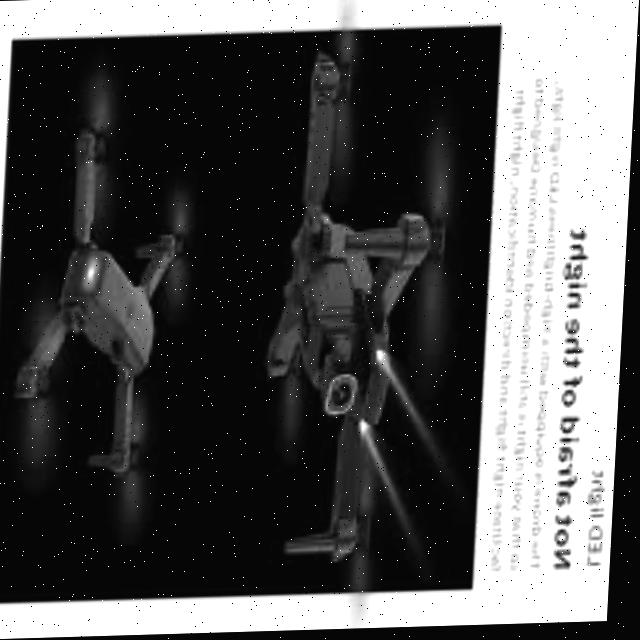drone: (234, 31, 505, 599), (0, 67, 215, 545)
